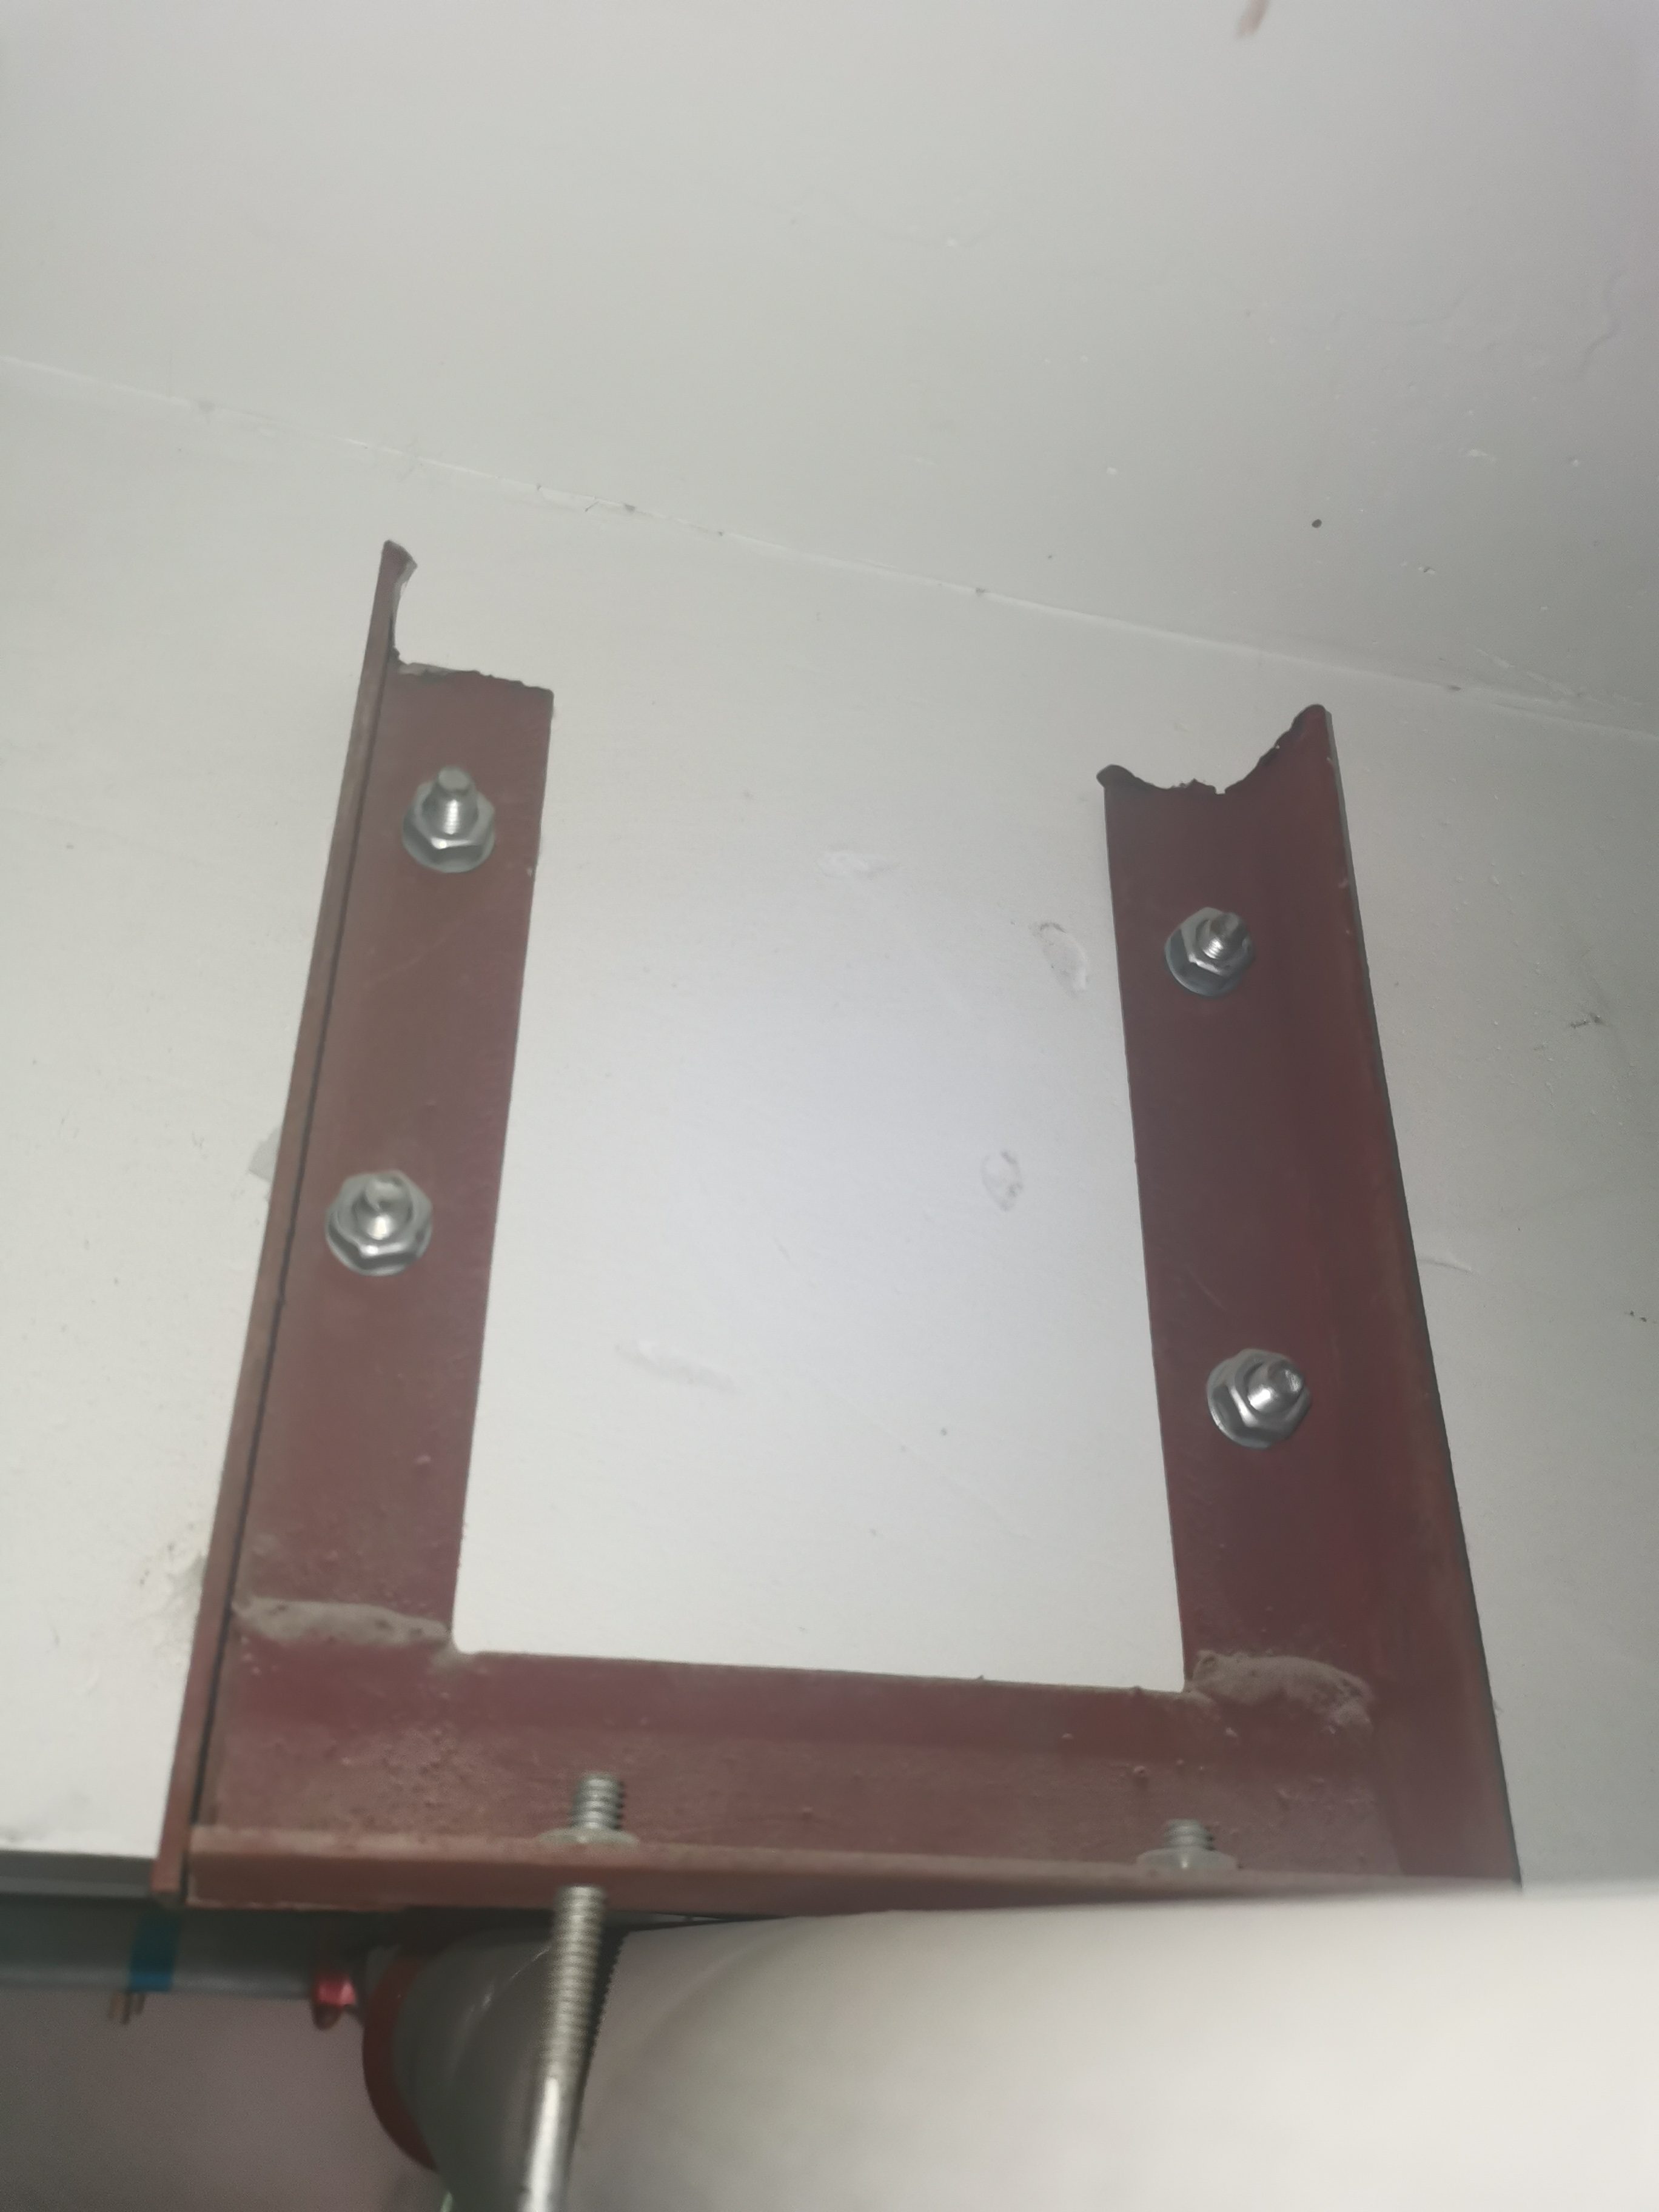bolt_b: (324, 1158, 439, 1275), (1208, 1341, 1316, 1447), (401, 768, 500, 866), (1166, 902, 1260, 998)
bolt_c: (1122, 1834, 1246, 1888)
